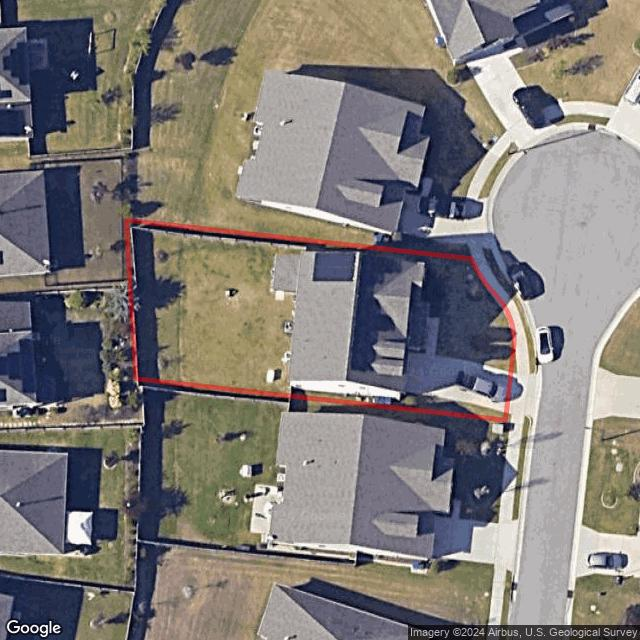Driveway: (401, 351, 510, 413)
Extra-Driveway: (506, 372, 538, 419)
Extra-Lawn: (512, 296, 535, 375), (486, 255, 517, 300), (511, 346, 517, 374), (523, 417, 530, 425), (507, 413, 511, 421)
Extra-Sidewalk: (472, 256, 529, 375), (511, 413, 524, 423)
House: (271, 251, 424, 393)
Lawn: (127, 220, 515, 419)
Other: (421, 265, 442, 316), (409, 325, 429, 354)
Sidewalk: (417, 317, 439, 356)
